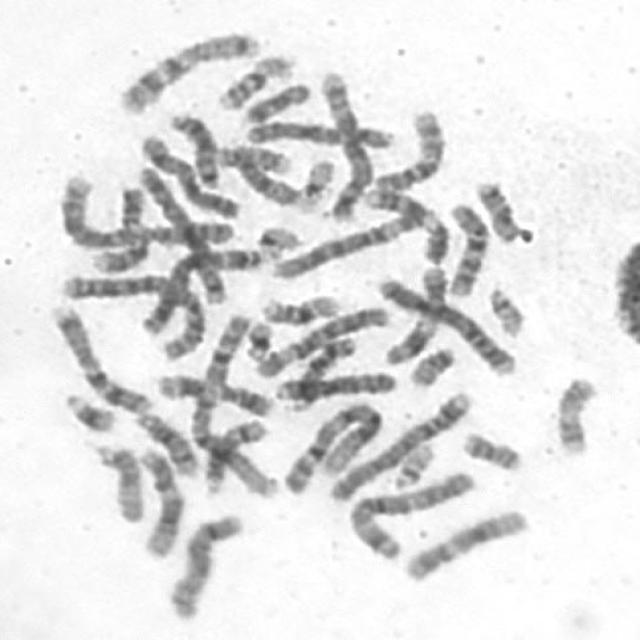A1: (187, 307, 278, 499), (276, 395, 387, 497)
A2: (51, 169, 238, 252), (53, 267, 207, 363)
A3: (341, 464, 477, 562), (134, 241, 265, 337)
B4: (322, 384, 477, 504), (371, 267, 521, 378)
B5: (131, 146, 233, 309), (313, 66, 375, 222)
C10: (367, 103, 448, 193), (440, 196, 492, 300)
C11: (378, 259, 450, 367), (150, 365, 278, 419)
C12: (396, 501, 532, 584), (132, 443, 186, 560)
C6: (264, 198, 429, 282), (249, 300, 392, 380)
C7: (110, 24, 262, 116), (42, 298, 155, 416)
C8: (160, 506, 247, 622), (269, 364, 400, 404)
C9: (356, 183, 451, 264), (86, 180, 151, 275)
D13: (285, 329, 360, 412), (162, 105, 222, 189)
D14: (198, 412, 272, 497), (127, 406, 203, 478)
D15: (221, 137, 306, 210), (88, 437, 147, 524)
E16: (212, 47, 298, 111), (253, 287, 343, 326)
E17: (548, 370, 599, 459), (209, 138, 293, 176)
E18: (236, 76, 314, 126), (468, 173, 522, 245)
F19: (292, 152, 339, 214), (249, 220, 304, 262)
F20: (454, 424, 524, 473), (403, 340, 458, 390)
G21: (57, 386, 118, 434), (238, 314, 276, 363)
G22: (384, 433, 439, 491), (481, 279, 527, 338)
X: (134, 128, 242, 222), (237, 114, 398, 150)
